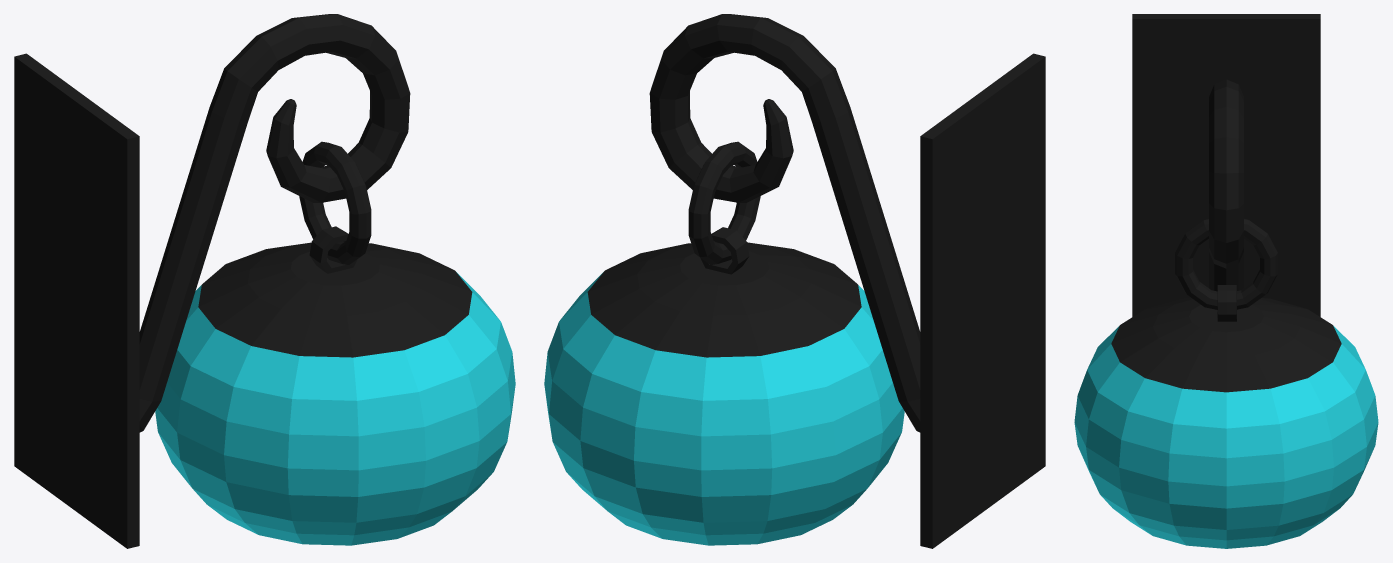
The model's file is candelabro.fbx.
The picture shows the model from 3 angles, left to right: view 1: azimuth 30°, elevation 25°; view 2: azimuth 150°, elevation 25°; view 3: azimuth 270°, elevation 25°; orthographic projection. The views are drawn at different scales.
Parts seen in each view (by area): view 1: Light_Redonda.001, MetalBase.001, Anillo.001; view 2: Light_Redonda.001, MetalBase.001, Anillo.001; view 3: Light_Redonda.001, MetalBase.001, Anillo.001.
Part boxes in pixels (left/top/right/bottom): Light_Redonda.001: left=155, top=226, right=515, bottom=545; MetalBase.001: left=14, top=14, right=410, bottom=548; Anillo.001: left=299, top=141, right=371, bottom=264; Light_Redonda.001: left=544, top=227, right=904, bottom=545; MetalBase.001: left=649, top=14, right=1045, bottom=548; Anillo.001: left=688, top=141, right=760, bottom=264; Light_Redonda.001: left=1074, top=285, right=1378, bottom=548; MetalBase.001: left=1132, top=14, right=1320, bottom=316; Anillo.001: left=1175, top=218, right=1277, bottom=309.
Bounding box in the file's own units: 216 × 245 × 161.
